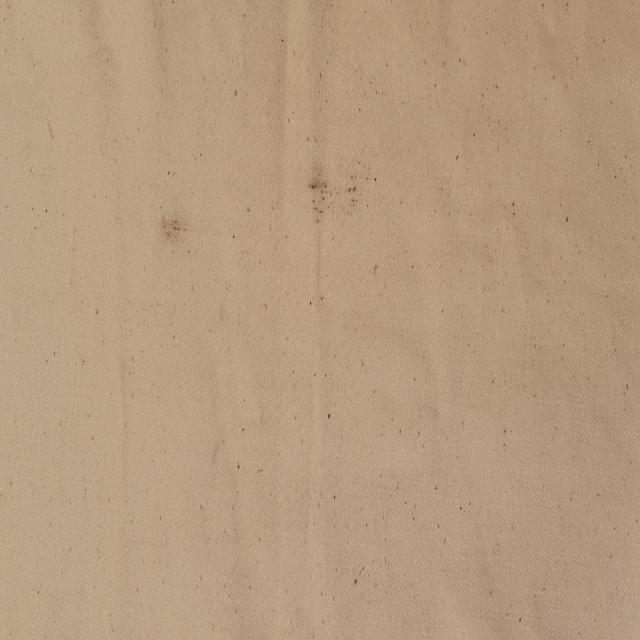taaaches: (303, 152, 368, 233), (150, 200, 208, 258)
